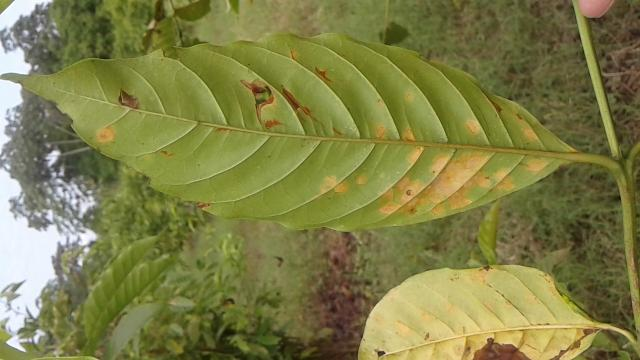rust_level_3: (8, 40, 574, 230)
